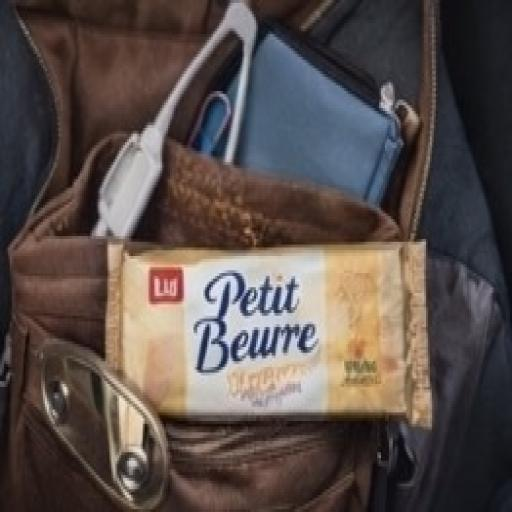petit_beurre: (64, 192, 480, 488)
